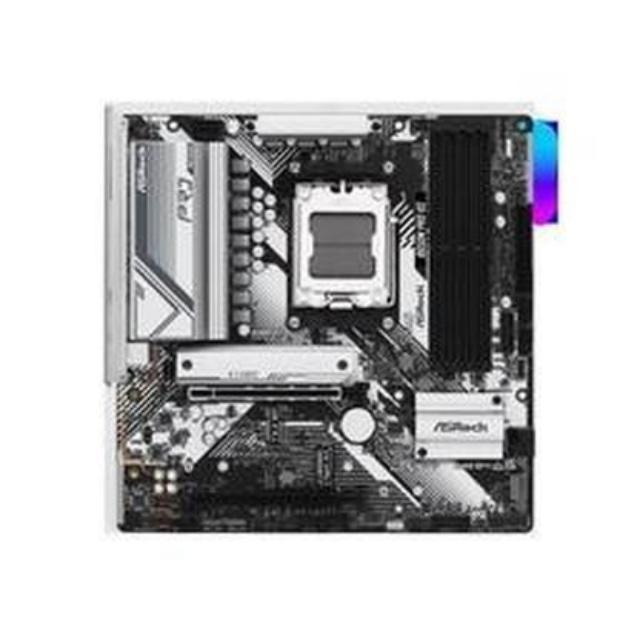Mainboard: (94, 89, 566, 556)
